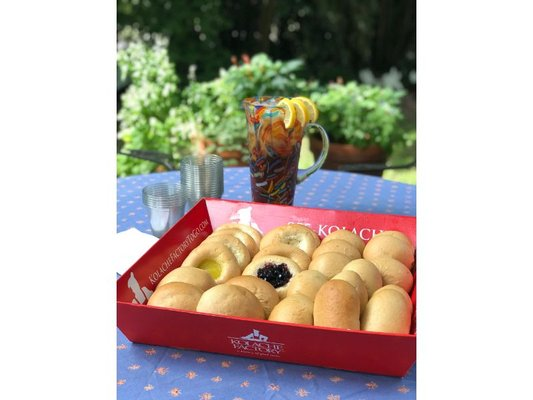pizza: (243, 96, 330, 205), (179, 155, 224, 216), (141, 184, 184, 238)
